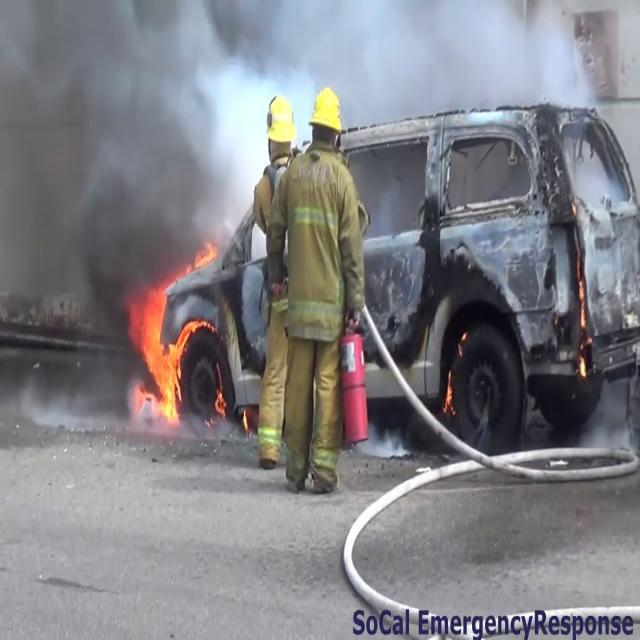Fire: (124, 278, 212, 425)
Smoke: (0, 0, 258, 342)
